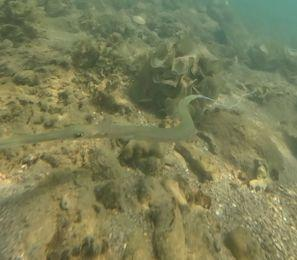Fistularia commersonii: (2, 88, 248, 187)
